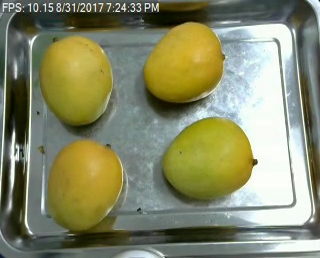Mango: (161, 117, 254, 198), (47, 138, 125, 229), (142, 20, 226, 102), (38, 33, 112, 123)
